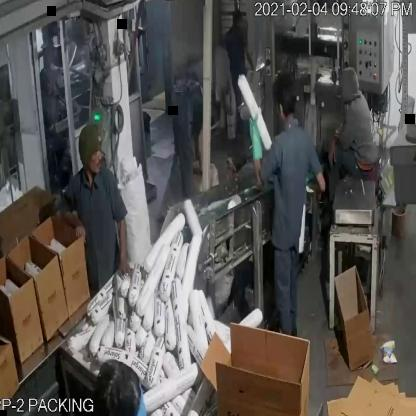glove: (246, 110, 265, 169)
no_glove: (105, 207, 140, 288), (50, 198, 95, 242), (302, 146, 327, 204), (241, 36, 259, 80), (327, 128, 341, 168)
